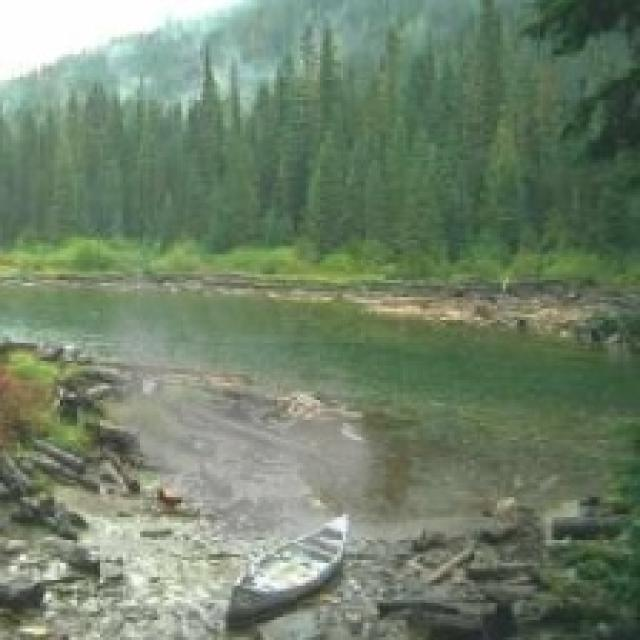smoke: (63, 229, 408, 580)
